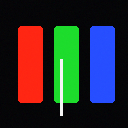4 line_v: (60, 59, 62, 115)
